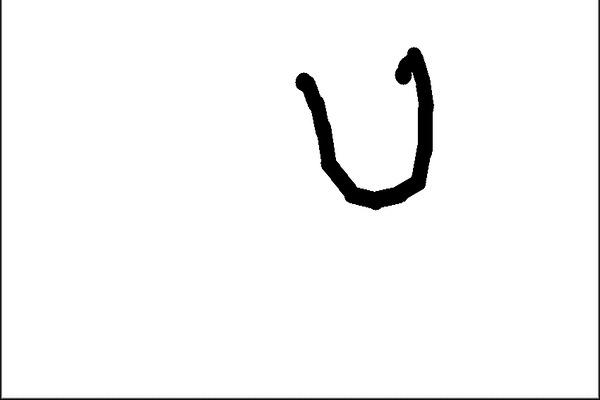U: (287, 43, 445, 214)
